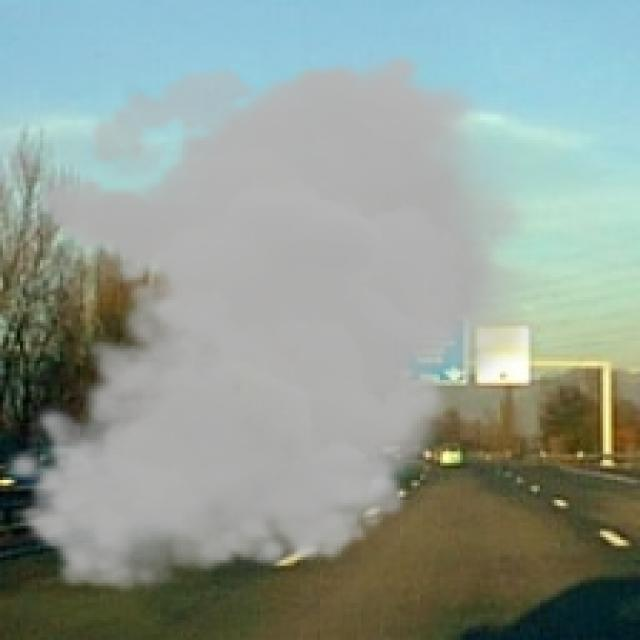smoke: (0, 49, 549, 594)
